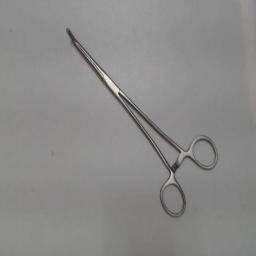Lahey Forceps: (62, 20, 222, 222)
